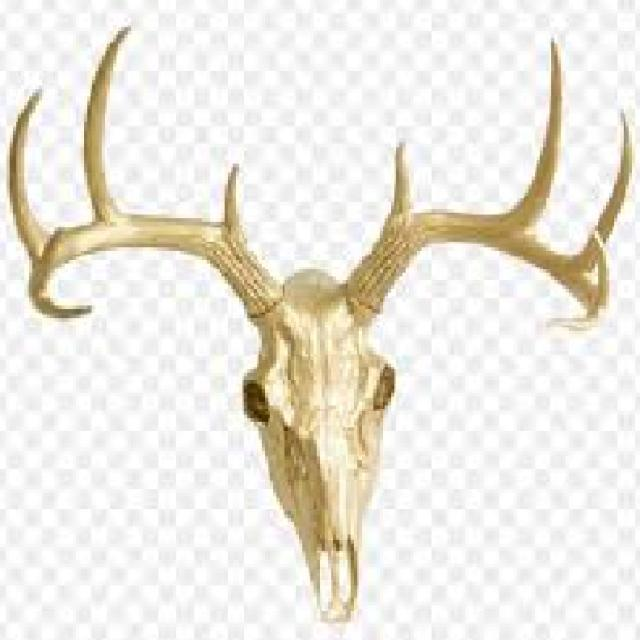L-F: (339, 207, 600, 331)
L-G1: (390, 138, 413, 219)
L-G2: (502, 37, 563, 231)
L-G3: (570, 109, 634, 277)
R-F: (32, 214, 284, 322)
R-G1: (223, 159, 245, 242)
R-G2: (83, 23, 132, 223)
R-G3: (5, 85, 48, 263)
